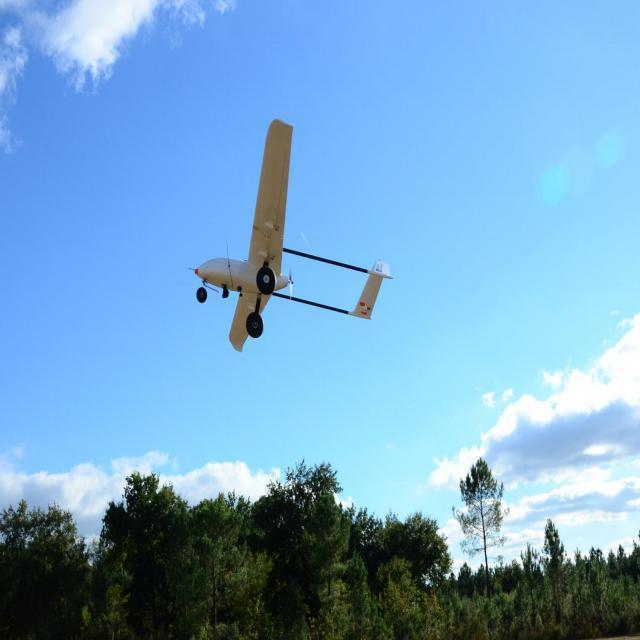UAV: (169, 146, 382, 352)
